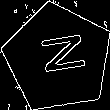N_W: (30, 34, 86, 82)
